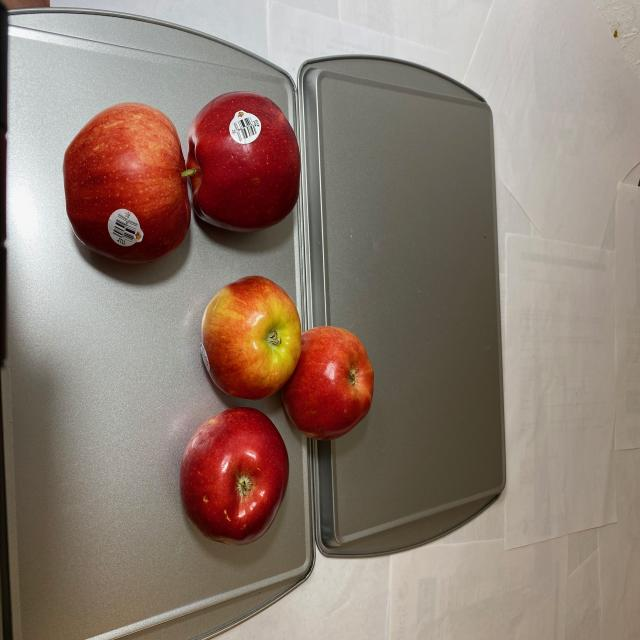apple: (179, 275, 377, 554), (58, 82, 304, 267)
